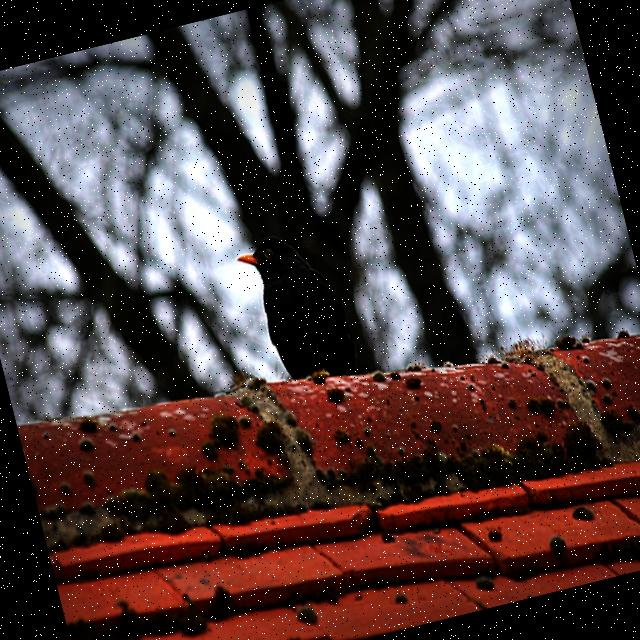bird: (232, 221, 362, 396)
